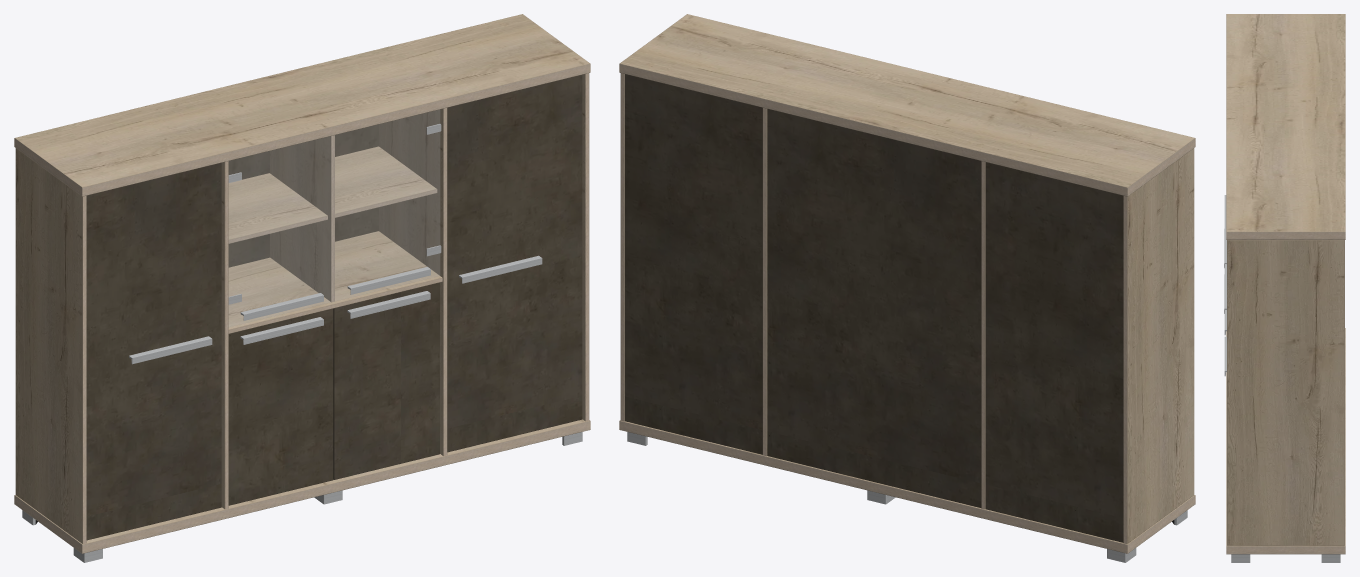
The picture shows the model from 3 angles, left to right: view 1: azimuth 30°, elevation 25°; view 2: azimuth 150°, elevation 25°; view 3: azimuth 270°, elevation 25°; orthographic projection. The views are drawn at different scales.
Parts seen in each view (by area): view 1: Line1789532172, Line1789532175, Line1789532194, Line1789532188, Line1789532173, Line1789532174, Box1578995158, Box1578995154, Line1789532186, Line1789532193, Line1789532189, Line1789532183 (+11 smaller); view 2: Line1789532184, Line1789532187, Line1789532192, Line1789532194, Line1789532188, Line1789532189, Line1789532186, Line1789532185, Line1789532191; view 3: Line1789532191, Line1789532194, Line1789532189, Object5799, Object5801.
Boxes of the visible parts, x1=… form: Line1789532172: x1=447, y1=75, x2=582, y2=452; Line1789532175: x1=86, y1=163, x2=221, y2=540; Line1789532194: x1=14, y1=14, x2=590, y2=196; Line1789532188: x1=15, y1=148, x2=86, y2=543; Line1789532173: x1=333, y1=282, x2=439, y2=479; Line1789532174: x1=228, y1=308, x2=333, y2=505; Box1578995158: x1=334, y1=110, x2=439, y2=301; Box1578995154: x1=229, y1=136, x2=333, y2=326; Line1789532186: x1=379, y1=108, x2=447, y2=455; Line1789532193: x1=228, y1=231, x2=442, y2=333; Line1789532189: x1=14, y1=419, x2=590, y2=553; Line1789532183: x1=270, y1=135, x2=334, y2=302; Line1789532184: x1=767, y1=109, x2=981, y2=507; Line1789532187: x1=985, y1=162, x2=1123, y2=542; Line1789532192: x1=625, y1=74, x2=762, y2=454; Line1789532194: x1=619, y1=14, x2=1195, y2=196; Line1789532188: x1=1123, y1=148, x2=1194, y2=543; Line1789532189: x1=619, y1=420, x2=1195, y2=553; Line1789532186: x1=762, y1=108, x2=767, y2=455; Line1789532185: x1=981, y1=161, x2=985, y2=509; Line1789532191: x1=620, y1=73, x2=624, y2=421; Line1789532191: x1=1227, y1=240, x2=1344, y2=545; Line1789532194: x1=1226, y1=14, x2=1345, y2=239; Line1789532189: x1=1226, y1=328, x2=1345, y2=554; Object5799: x1=1231, y1=554, x2=1250, y2=562; Object5801: x1=1321, y1=554, x2=1340, y2=562.
Size of the model in its own units: 2.16 by 1.54 by 0.5078.
Materials: 7 (5 with a texture image).
